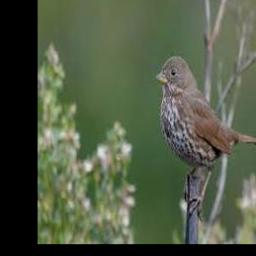Sparrow: (156, 55, 256, 221)
